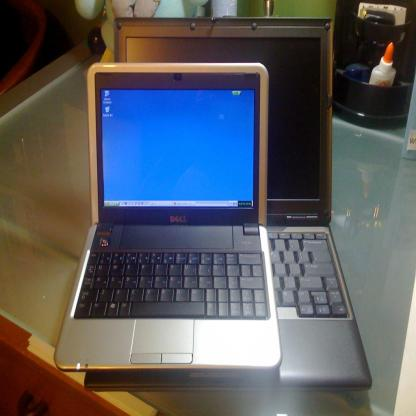board: (85, 20, 372, 390), (56, 61, 282, 374), (370, 43, 395, 89)
